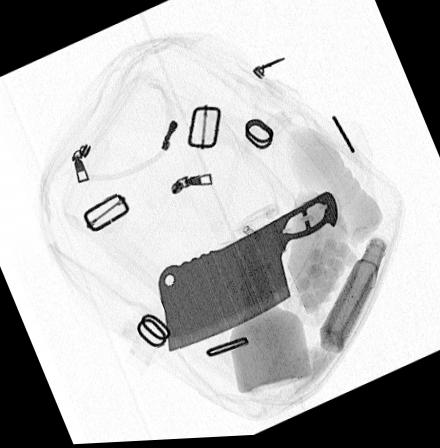Knife: (157, 193, 338, 354)
